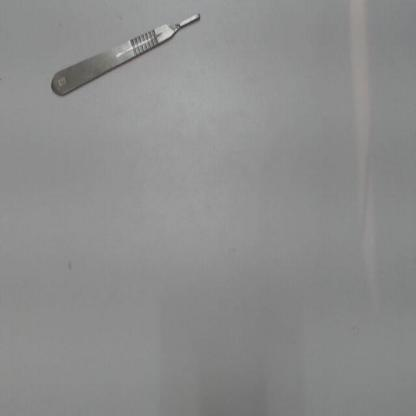No.3 BP Handle: (50, 6, 202, 102)
